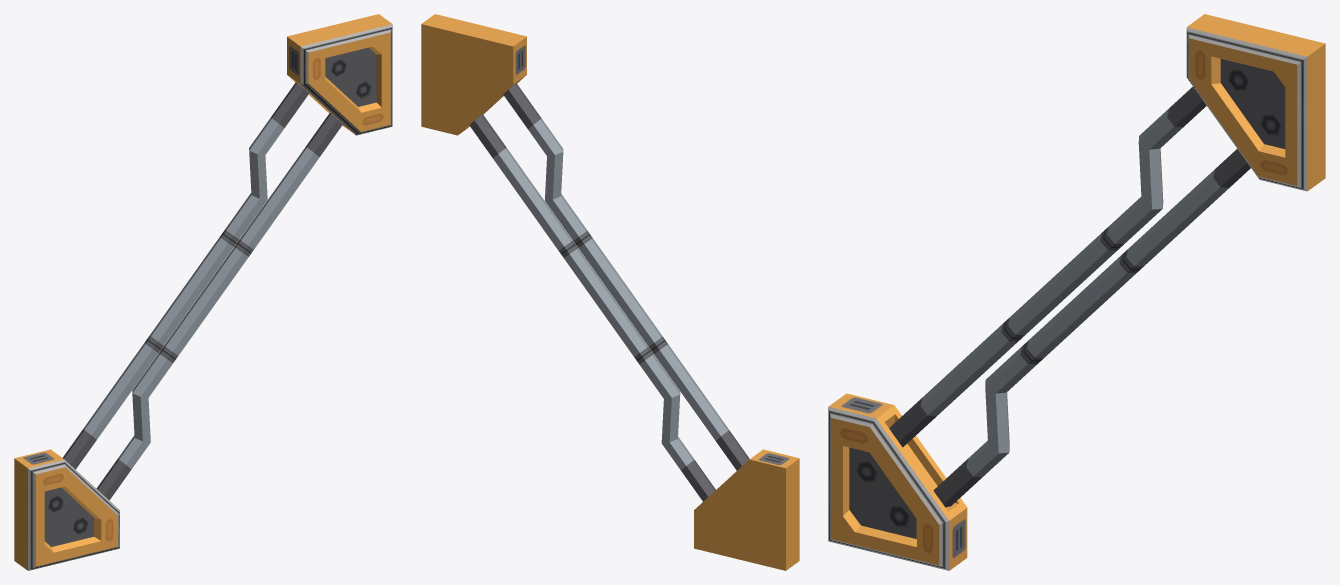
Rendered from cyber_SM_Bld_Wall_Trim_02.gltf.
3 renders of one model, left to right at view 1: azimuth 30°, elevation 25°; view 2: azimuth 150°, elevation 25°; view 3: azimuth 330°, elevation 25°, orthographic. The views are drawn at different scales.
Visible parts, largest first — view 1: SM_Bld_Wall_Trim_02; view 2: SM_Bld_Wall_Trim_02; view 3: SM_Bld_Wall_Trim_02.
Part boxes in pixels (x1,y1,x2,y2): SM_Bld_Wall_Trim_02: (14, 14, 392, 570); SM_Bld_Wall_Trim_02: (421, 14, 799, 570); SM_Bld_Wall_Trim_02: (828, 14, 1325, 570).
Bounding box in the file's own units: 2.5 × 3 × 0.1975.
1 material, 1 textured.
